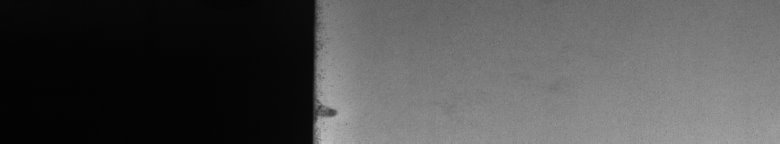hb: (324, 99, 341, 124)
